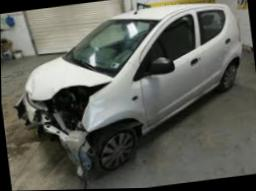Bonnet: (25, 55, 115, 99)
Bumper: (15, 99, 88, 188)
Light: (48, 102, 84, 129)
